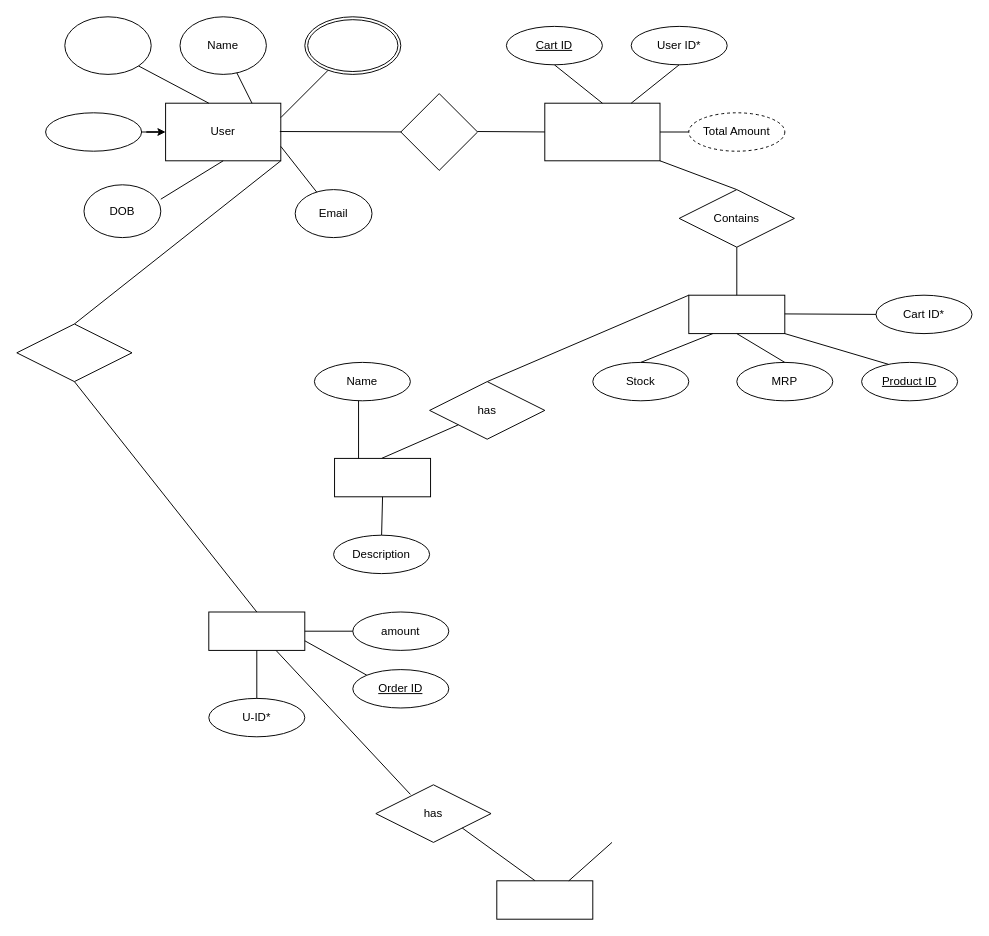
Some shapes in this 989 by 936 pixel diagram are drawn without their labels. Here are the shapes that lost their labels. From the top down, the centre of each, then its label:
At (352,45): "Phone No.".
At (93,131): "User ID".
At (439,131): "Shop".
At (602,131): "Cart".
At (736,314): "Product".
At (74,352): "Places".
At (382,477): "Product Category".
At (256,630): "Order".
At (544,899): "shipping".
